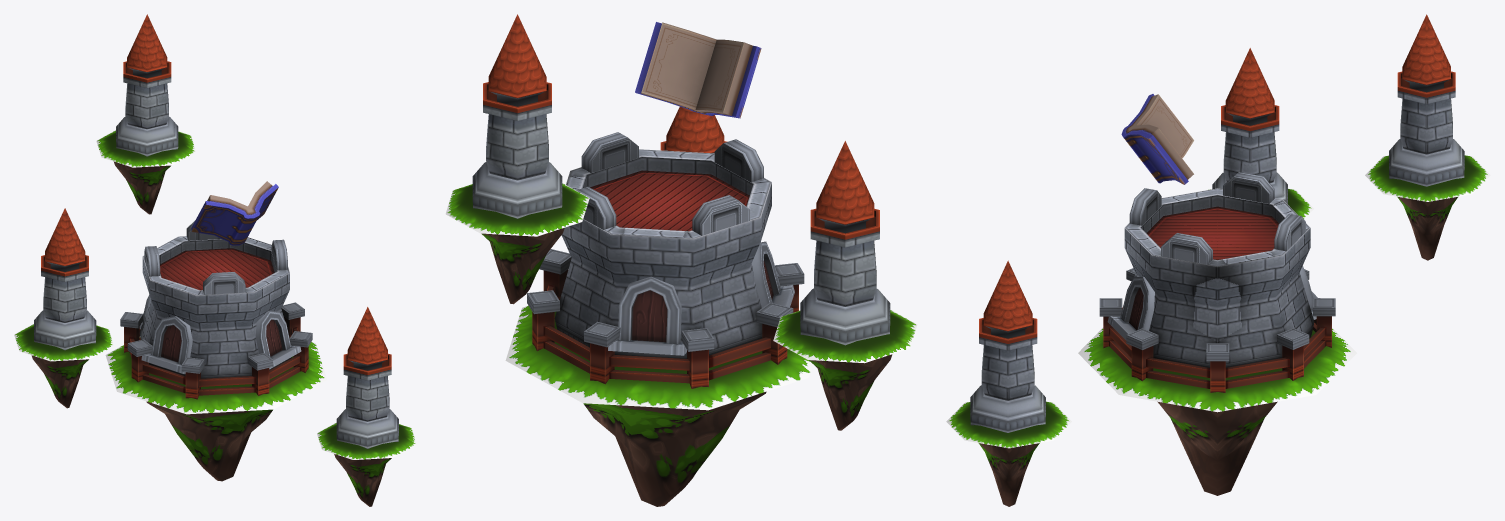
The model's file is MageTower_Level3_F.FBX.
3 views of the same model, side by side, from view 1: azimuth 30°, elevation 25°; view 2: azimuth 150°, elevation 25°; view 3: azimuth 270°, elevation 25° (orthographic). The views are drawn at different scales.
Parts seen in each view (by area): view 1: MageFort_Level006, MageFort_SpellBook001; view 2: MageFort_Level006, MageFort_SpellBook001; view 3: MageFort_Level006, MageFort_SpellBook001.
Part boxes in pixels (x1=…): MageFort_Level006: x1=14, y1=14, x2=416, y2=506; MageFort_SpellBook001: x1=191, y1=181, x2=278, y2=245; MageFort_Level006: x1=445, y1=14, x2=917, y2=506; MageFort_SpellBook001: x1=635, y1=22, x2=761, y2=118; MageFort_Level006: x1=946, y1=14, x2=1490, y2=506; MageFort_SpellBook001: x1=1121, y1=94, x2=1193, y2=184.
Bounding box in the file's own units: 81.34 × 106 × 108.
